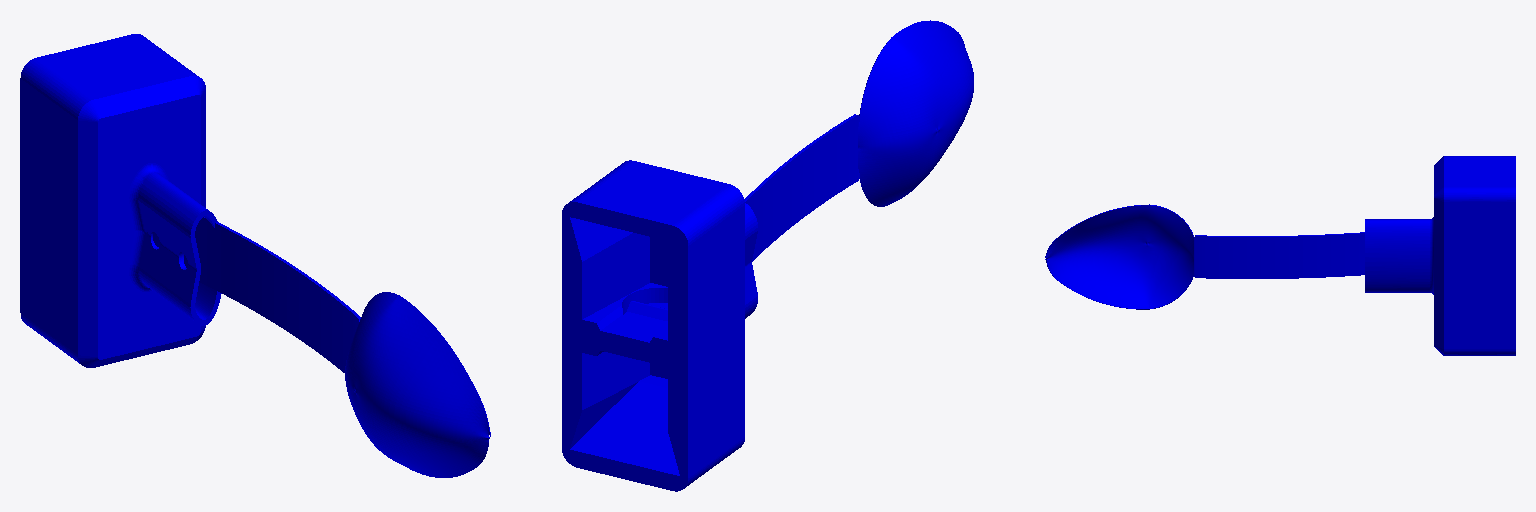
URDF robot description (spoon_rounded_projected):
<?xml version="1.0"?>

<robot name="spoon_rounded_projected">
  <link name="spoon_rounded_frame_projected">
    <visual>
      <geometry>
        <mesh filename="package://iai_kitchen/meshes/racks/BoxyToolholder/Holder_Spoon.stl"/>
      </geometry>
      <material name="blue">
         <color rgba="0.0 0.0 1.0 1.0"/>
      </material>
    </visual>
  </link>
</robot>

--- Facts derived from the render (not from the file) ---
The picture shows the robot from 3 angles, left to right: view 1: azimuth 30°, elevation 25°; view 2: azimuth 150°, elevation 25°; view 3: azimuth 270°, elevation 25°; orthographic projection.
Model spoon_rounded_projected with 1 links and 0 joints (none), rooted at spoon_rounded_frame_projected, posed every joint at zero.
Visible links, largest first — view 1: spoon_rounded_frame_projected; view 2: spoon_rounded_frame_projected; view 3: spoon_rounded_frame_projected.
Link boxes in pixels (<box>): spoon_rounded_frame_projected: <box>20,34,490,477</box>; spoon_rounded_frame_projected: <box>562,20,973,491</box>; spoon_rounded_frame_projected: <box>1045,156,1515,355</box>.
Bounding box of the posed robot: 4 × 20.31 × 8 m (x, y, z).
1 mesh visuals loaded from 1 distinct referenced files (1 binary STL).